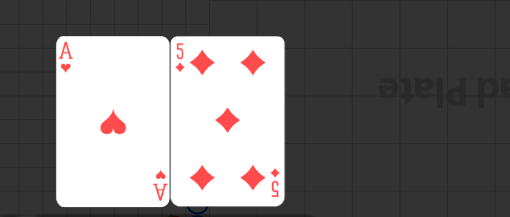5D: (269, 166, 281, 199)
AH: (58, 41, 75, 76)
